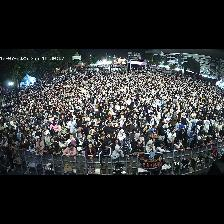person: (99, 144, 112, 169), (166, 127, 176, 149), (85, 143, 96, 161), (63, 143, 76, 157), (48, 143, 62, 156), (132, 140, 144, 155), (112, 145, 124, 159), (128, 128, 140, 141), (155, 140, 168, 152), (159, 124, 168, 141), (158, 118, 165, 139), (131, 134, 142, 146), (175, 139, 185, 152), (145, 131, 155, 144), (95, 135, 103, 151), (44, 130, 52, 146), (121, 143, 130, 157), (189, 127, 196, 145), (55, 130, 66, 141), (130, 120, 139, 133), (59, 138, 67, 152), (36, 137, 45, 149), (112, 138, 121, 150), (146, 141, 155, 153), (50, 120, 59, 132), (171, 113, 179, 126), (118, 130, 125, 144), (77, 133, 84, 147), (122, 122, 129, 136), (104, 133, 112, 145), (29, 142, 36, 155), (19, 141, 29, 150), (182, 137, 190, 148), (0, 138, 8, 149), (103, 122, 111, 133), (180, 120, 187, 132), (28, 133, 36, 143), (190, 137, 197, 148), (67, 134, 75, 143), (36, 146, 43, 156), (87, 135, 94, 145), (126, 137, 131, 151), (60, 124, 66, 135), (187, 123, 192, 136), (77, 147, 85, 155), (28, 137, 36, 144), (120, 116, 125, 127), (15, 142, 20, 153), (212, 135, 218, 144), (197, 131, 203, 140), (197, 139, 203, 148), (50, 138, 59, 143), (111, 130, 116, 139), (71, 140, 76, 147), (218, 136, 222, 142)
